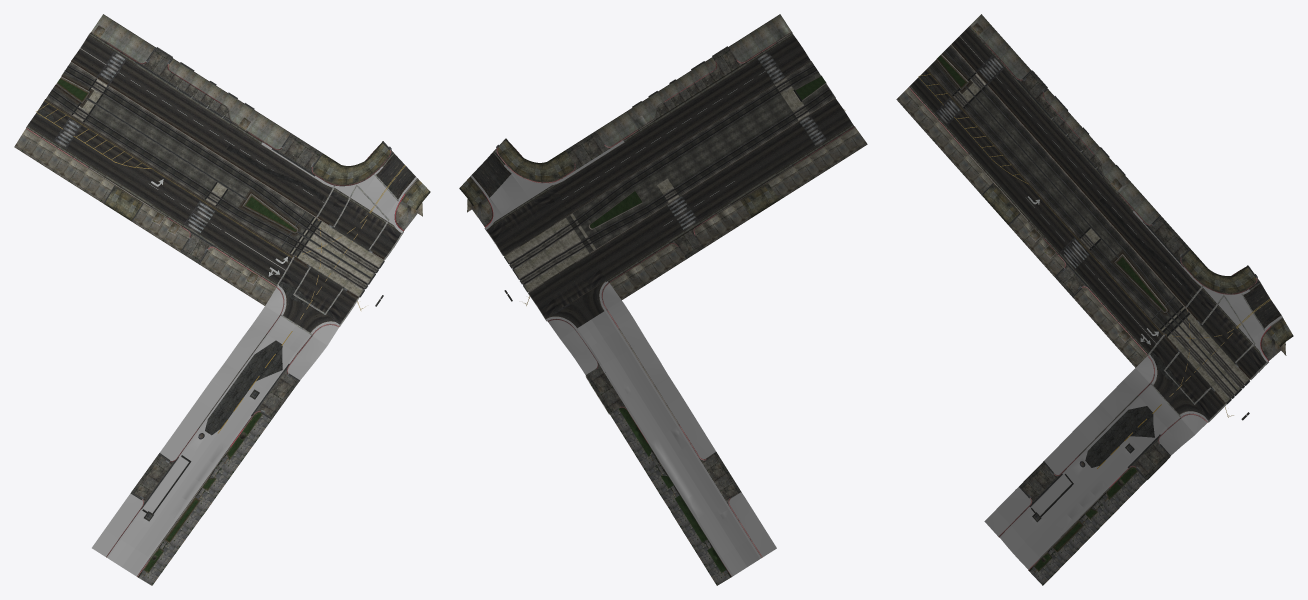
The picture shows the model from 3 angles, left to right: view 1: azimuth 30°, elevation 25°; view 2: azimuth 150°, elevation 25°; view 3: azimuth 330°, elevation 25°; orthographic projection. The views are drawn at different scales.
Visible parts, largest first — view 1: sc1_rd_r3_05; view 2: sc1_rd_r3_05; view 3: sc1_rd_r3_05.
Boxes of the visible parts, box(x1,y1,x2,y2) form: sc1_rd_r3_05: box(14, 14, 430, 585); sc1_rd_r3_05: box(459, 14, 867, 585); sc1_rd_r3_05: box(896, 14, 1293, 585).
Bounding box in the file's own units: 12610 × 17105 × 425.
